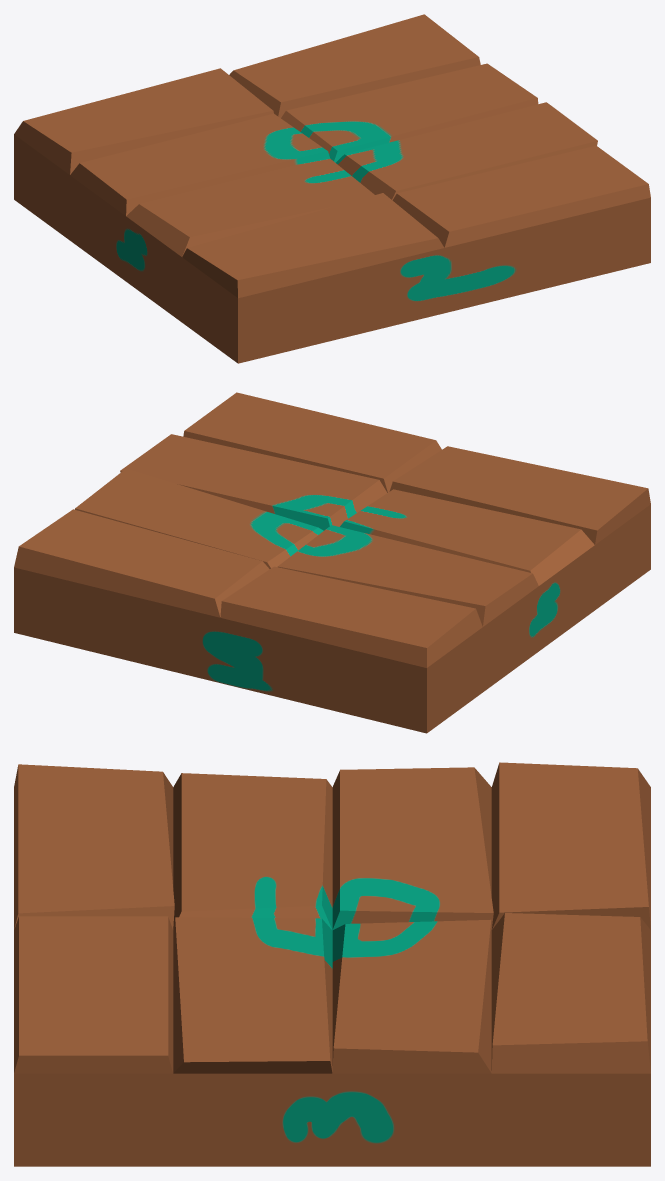
Rendered from intro_prop(floor_house)_01.FBX.
3 views of the same model, one above another, from view 1: azimuth 30°, elevation 25°; view 2: azimuth 150°, elevation 25°; view 3: azimuth 270°, elevation 25° (orthographic). The views are drawn at different scales.
Visible parts, largest first — view 1: floor_house001; view 2: floor_house001; view 3: floor_house001.
Boxes of the visible parts, bbox=[...] form: floor_house001: bbox=[14, 14, 650, 363]; floor_house001: bbox=[14, 392, 650, 733]; floor_house001: bbox=[14, 762, 650, 1166].
Size of what is drawn, in the model's own units: 188 by 36.99 by 174.
